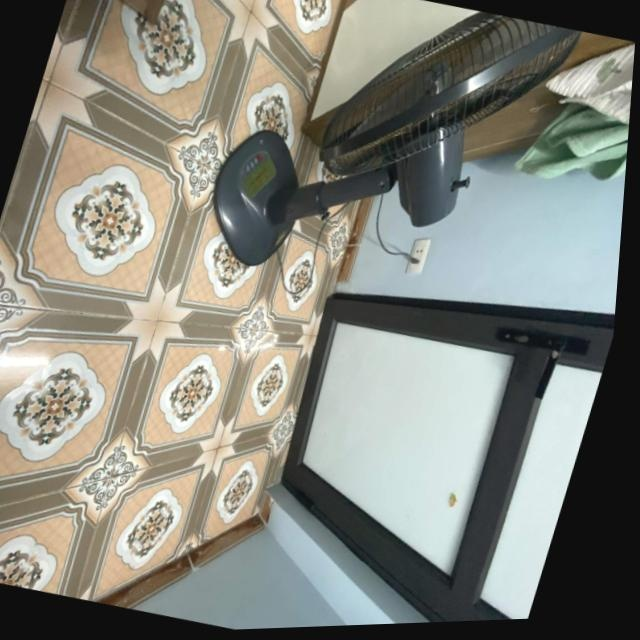outlet: (403, 234, 431, 277)
